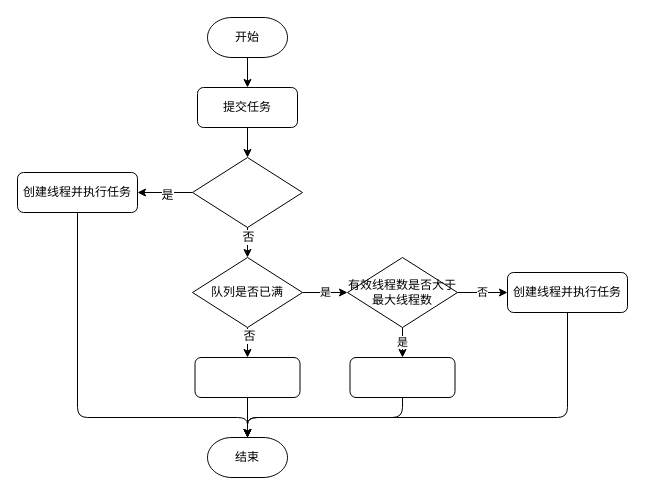
Image size: 645x495. Some labels were removed from this diagram. Each missing label, with the centre of its shape:
将任务添加至任务队列中: pixel 247 377
执行拒绝策略: pixel 402 377
有效线程数是否小于核心线程数: pixel 247 192
